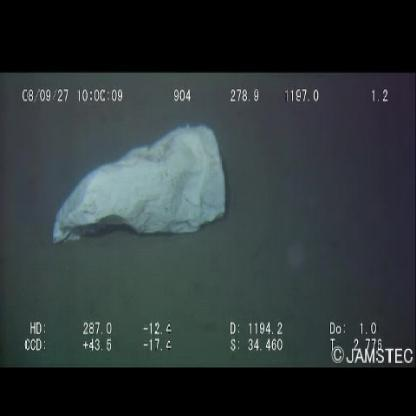Rác: (45, 118, 236, 258)
